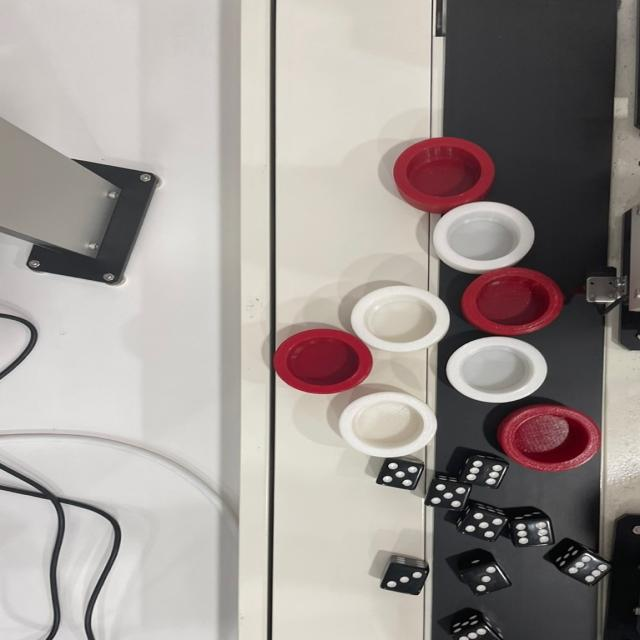DICE3: (464, 565, 510, 595), (384, 566, 427, 592)
DICE5: (462, 511, 507, 541), (378, 458, 423, 488), (424, 481, 466, 508)
DICE6: (565, 554, 616, 585), (510, 516, 556, 548), (464, 456, 508, 489), (457, 626, 498, 640)
RedChip: (389, 136, 493, 207), (268, 329, 372, 393), (500, 406, 602, 471), (463, 269, 559, 333)
WhiteChip: (430, 202, 539, 270), (447, 336, 550, 404), (338, 393, 442, 459), (352, 287, 450, 351)
